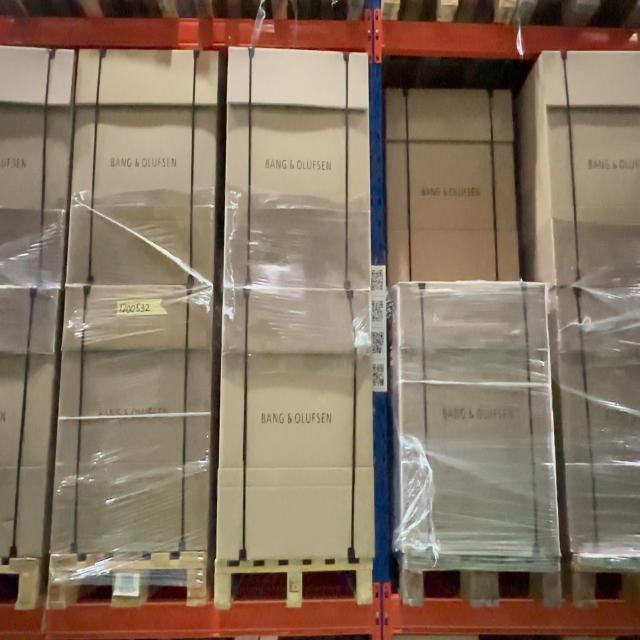box: (399, 284, 562, 558), (53, 284, 214, 553), (217, 288, 374, 556), (225, 47, 373, 287), (67, 47, 219, 280)
